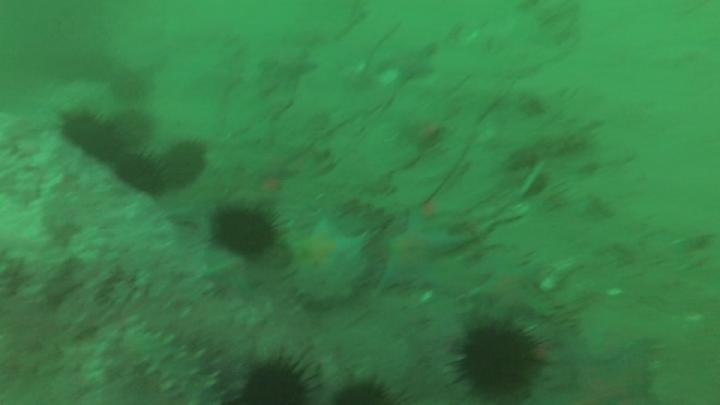echinus: (459, 327, 531, 393), (210, 210, 277, 258), (240, 366, 306, 405), (65, 118, 116, 165), (117, 154, 168, 196), (167, 144, 207, 189), (110, 111, 152, 147)
holothurian: (123, 327, 225, 405), (504, 131, 591, 166)
starfish: (562, 333, 657, 405), (384, 210, 465, 291), (290, 220, 367, 288), (474, 256, 551, 321)
